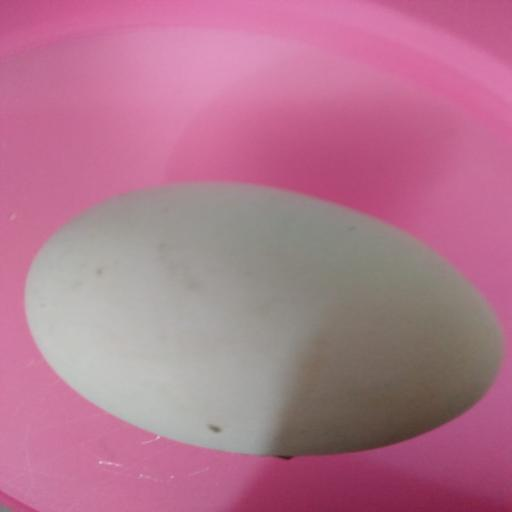telur: (20, 175, 512, 466)
